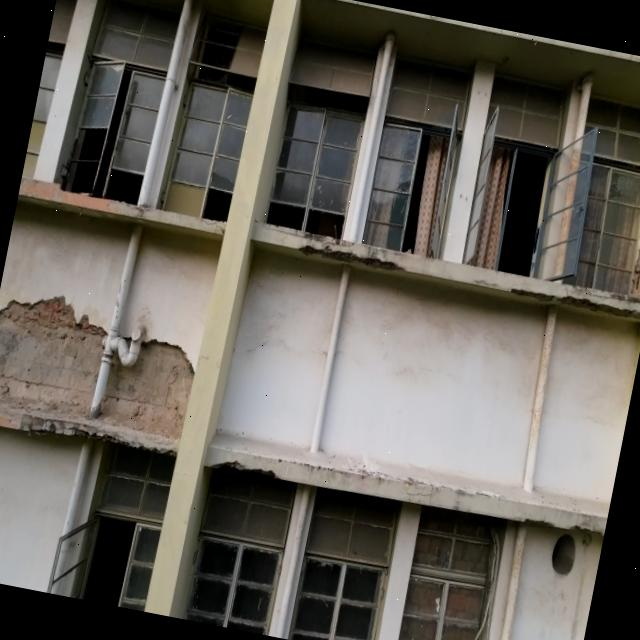Incomplete Plaster Work: (0, 297, 193, 451)
Scaling: (252, 223, 640, 322), (18, 182, 226, 235), (302, 242, 399, 270)
pollution -moisture induced blackening: (251, 221, 640, 322), (18, 182, 226, 235)
